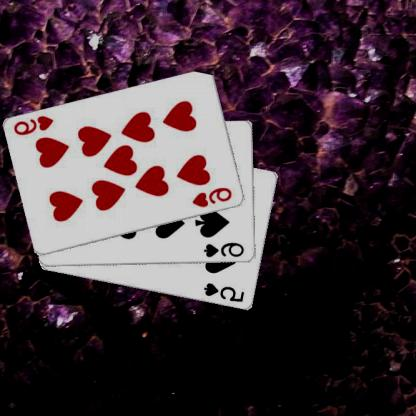5S: (203, 280, 248, 303)
9H: (13, 113, 57, 137), (192, 185, 235, 209)
9S: (203, 240, 247, 258)
